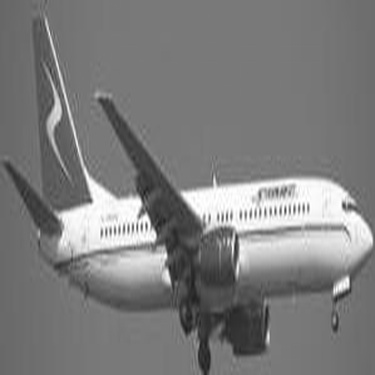airplane: (5, 2, 371, 370)
